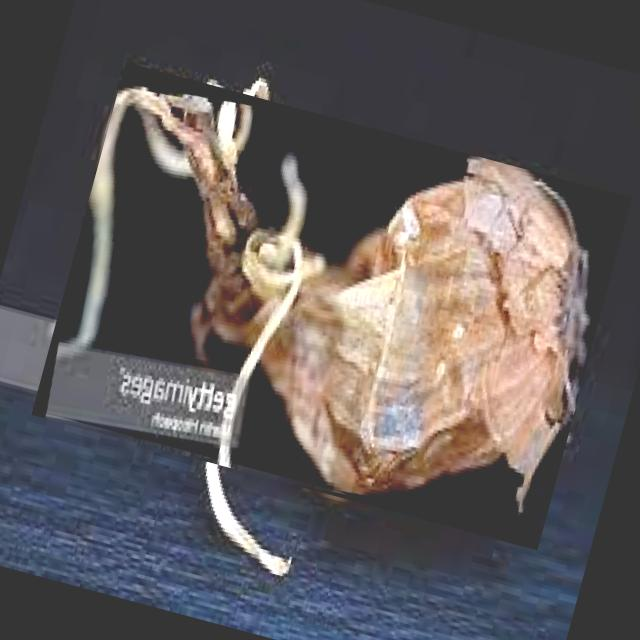rotten: (59, 89, 589, 507)
